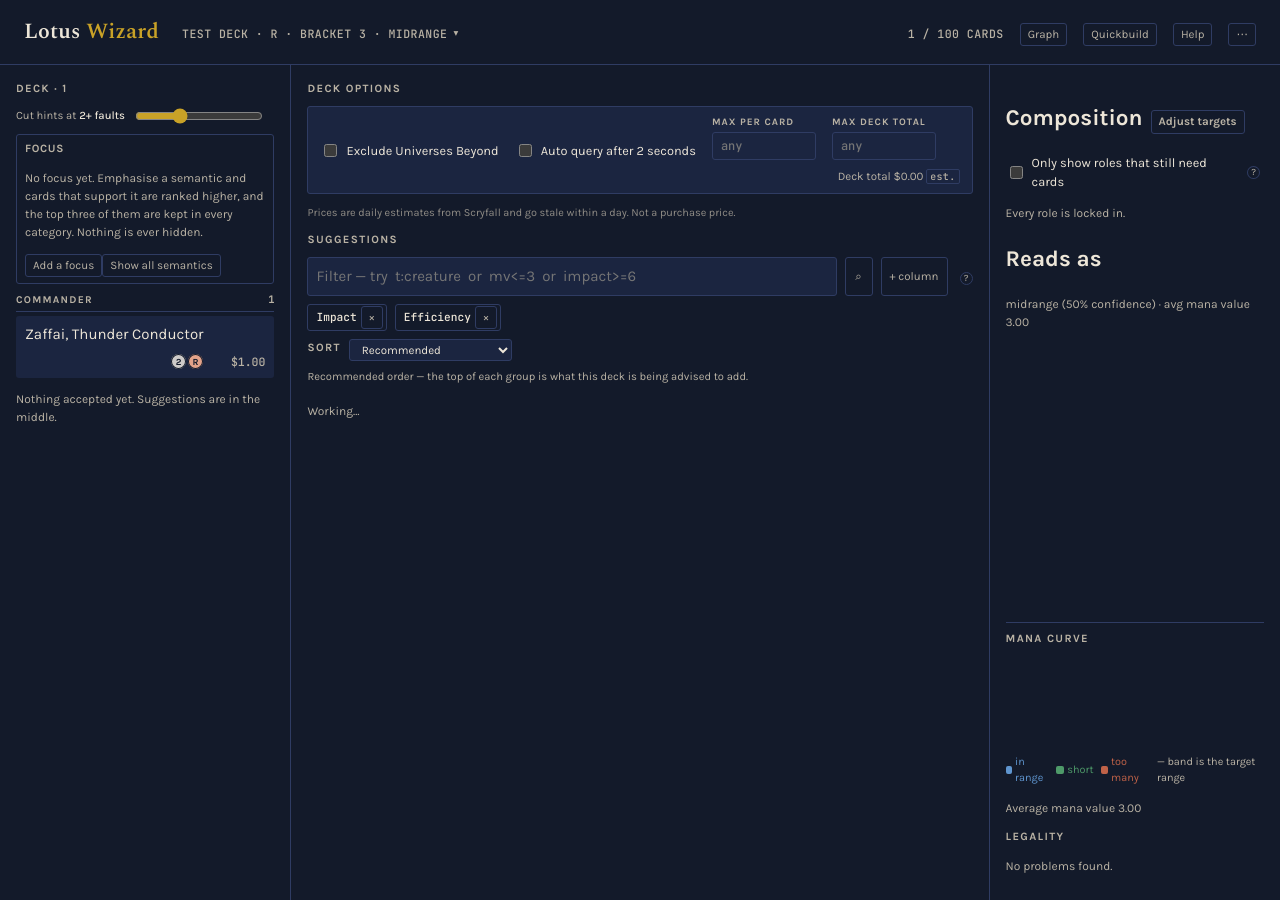
partners have to agree before a restriction is printed › keeps it when the only commander is the restricted one
Expected: the button "Zaffai, Thunder Conductor" is shown, 25,323 -> 266,345
Click the button "Add a focus": {"x": 64, "y": 266} 25,254 -> 102,277
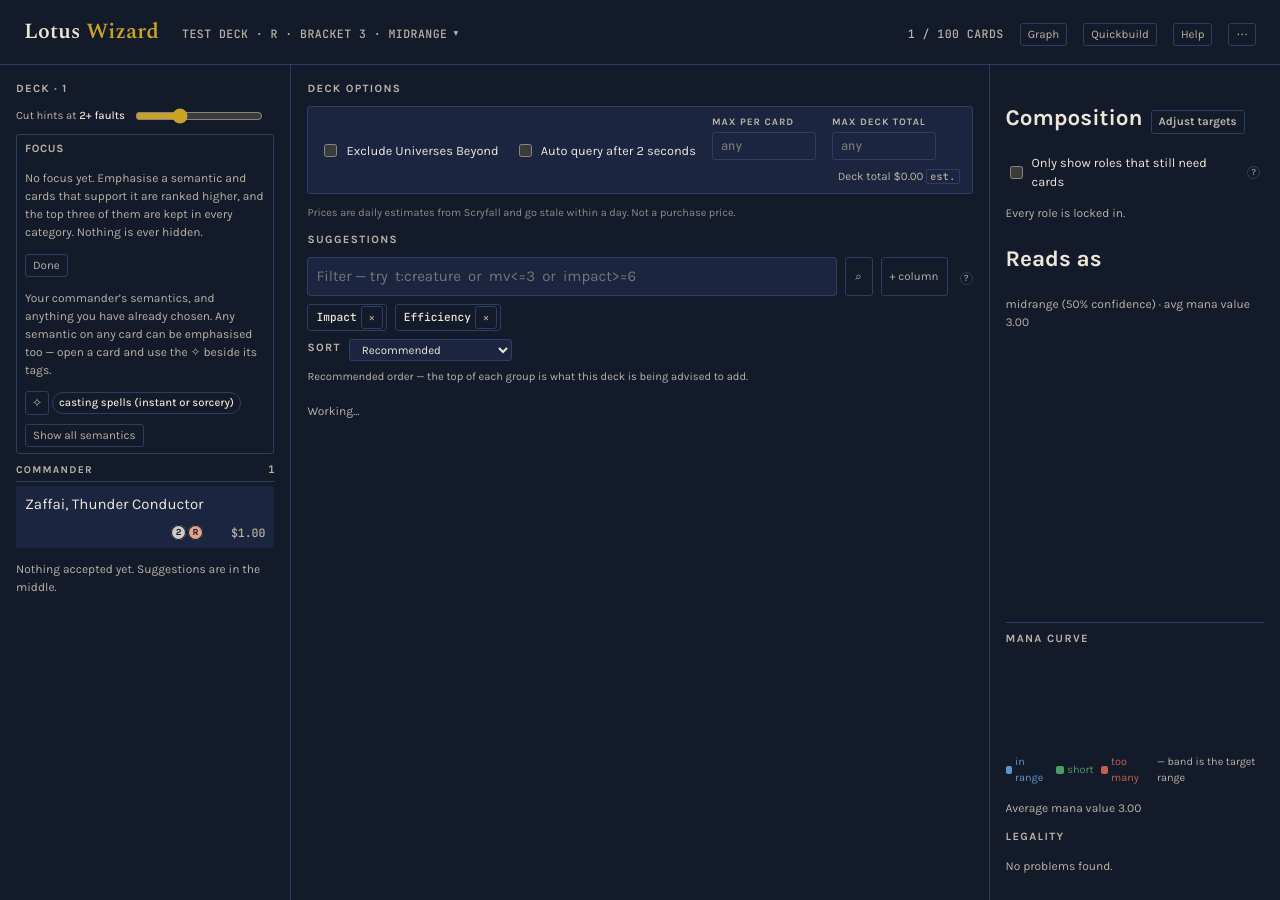
Now the text "casting spells (instant or sorcery)" is shown, box 52,392 -> 241,414
